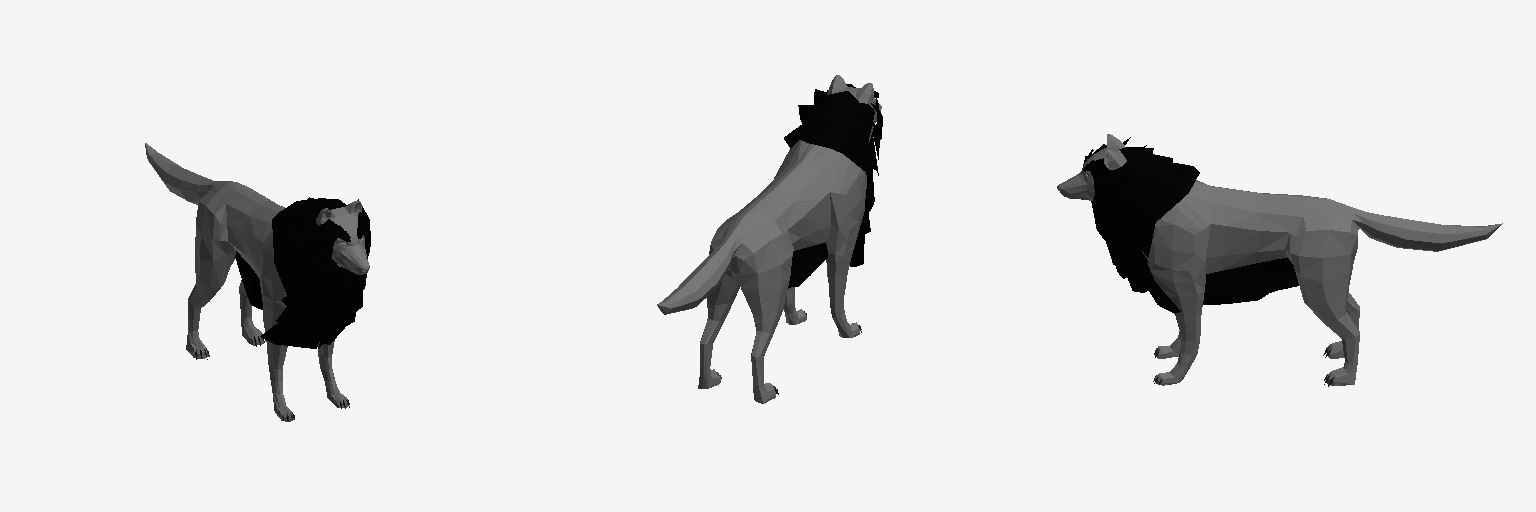
File: Wolf_obj.obj
3 renders of one model, left to right at view 1: azimuth 30°, elevation 25°; view 2: azimuth 150°, elevation 25°; view 3: azimuth 270°, elevation 25°, orthographic.
Visible parts, largest first — view 1: Wolf_obj_body_Cube.001, Wolf_obj_fur_Cube.002; view 2: Wolf_obj_body_Cube.001, Wolf_obj_fur_Cube.002; view 3: Wolf_obj_body_Cube.001, Wolf_obj_fur_Cube.002.
Boxes of the visible parts, box(x1,y1,x2,y2) form: Wolf_obj_body_Cube.001: box(145, 143, 369, 421); Wolf_obj_fur_Cube.002: box(235, 197, 370, 348); Wolf_obj_body_Cube.001: box(657, 75, 881, 403); Wolf_obj_fur_Cube.002: box(784, 84, 882, 288); Wolf_obj_body_Cube.001: box(1057, 134, 1502, 386); Wolf_obj_fur_Cube.002: box(1083, 137, 1298, 313).
Bounding box in the file's own units: 0.244 × 0.5776 × 1.02.